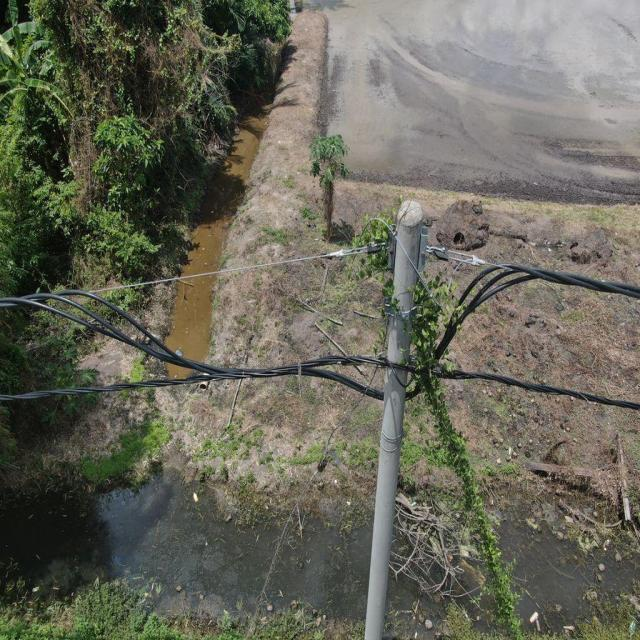critical vegetation: (344, 183, 520, 631)
